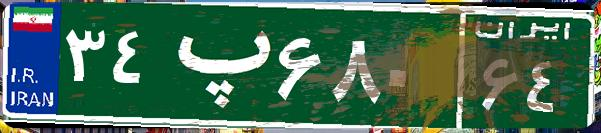0: (385, 28, 445, 110)
3: (57, 26, 110, 107)
4: (110, 28, 158, 105), (525, 38, 570, 115)
6: (273, 28, 330, 110), (475, 38, 525, 113)
8: (330, 28, 385, 110)
پ: (158, 15, 273, 115)
